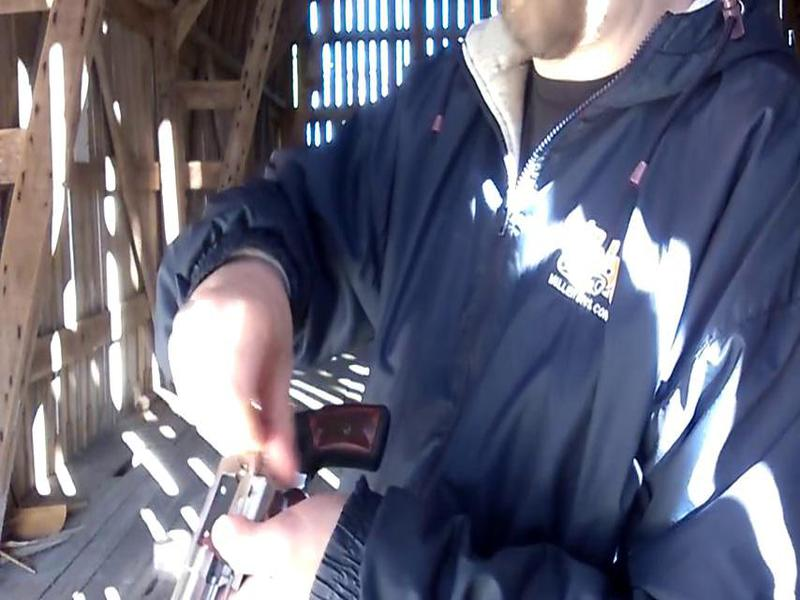Revolver: (149, 386, 390, 600)
